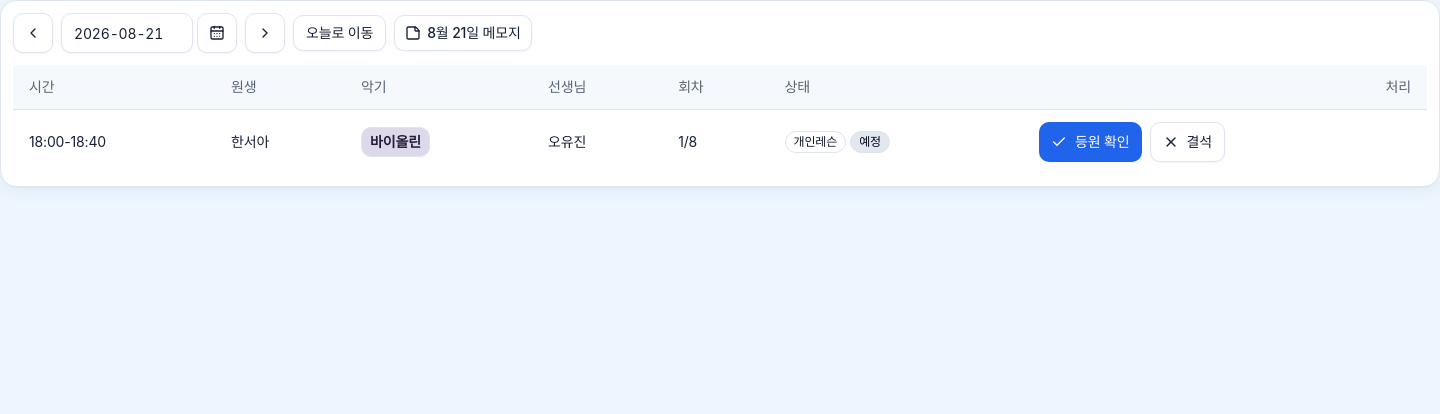
Test: PrivateLessonDayView › 결석을 누르면 그 행 아래에 사유 입력을 펼치고, 저장하면 결석과 사유를 전달한다
Click the button "결석" at (1187, 142), box [1150,122,1225,162]
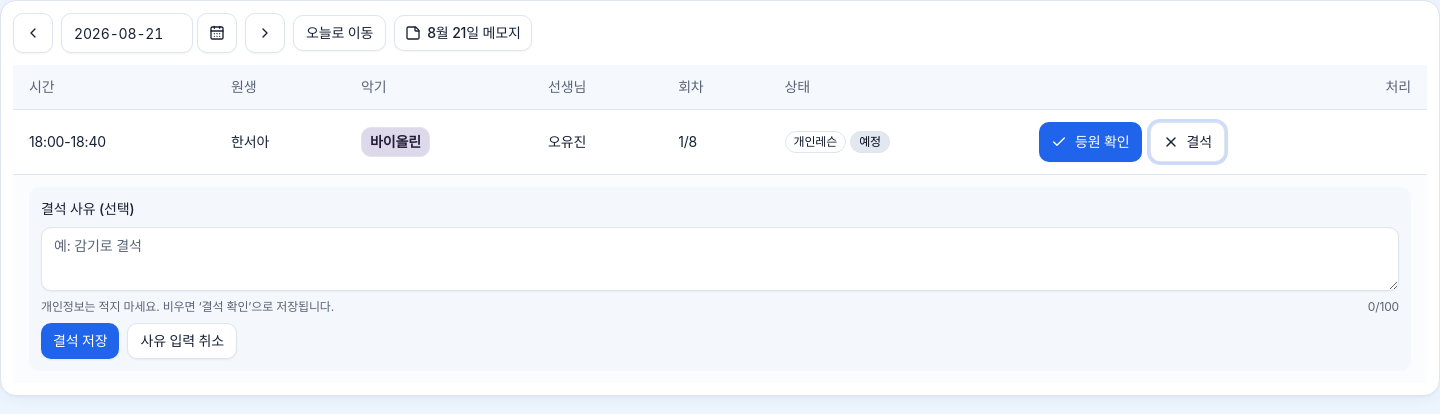
Type " 감기로 결석 " into the text box labelled "결석 사유 (선택)" at (720, 258), box [41,226,1399,290]
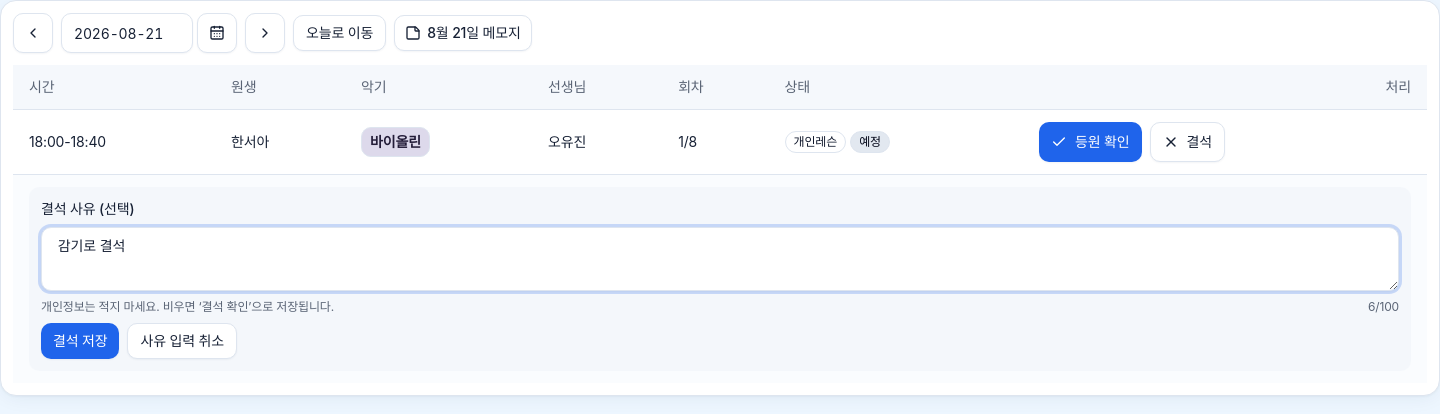
Click the button "결석 저장" at (80, 340), box [41,322,120,358]
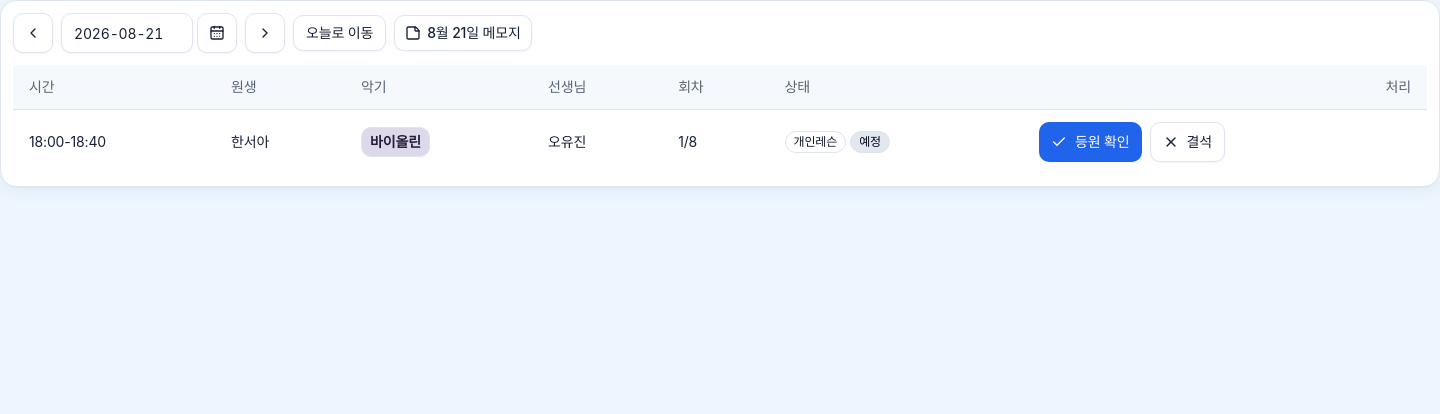
Expected: the label "결석 사유 (선택)" is gone
